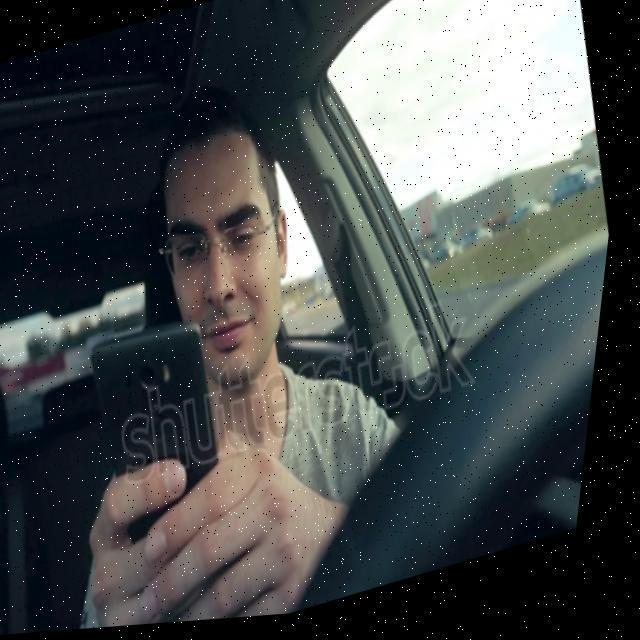PhoneCall: (74, 307, 259, 568)
